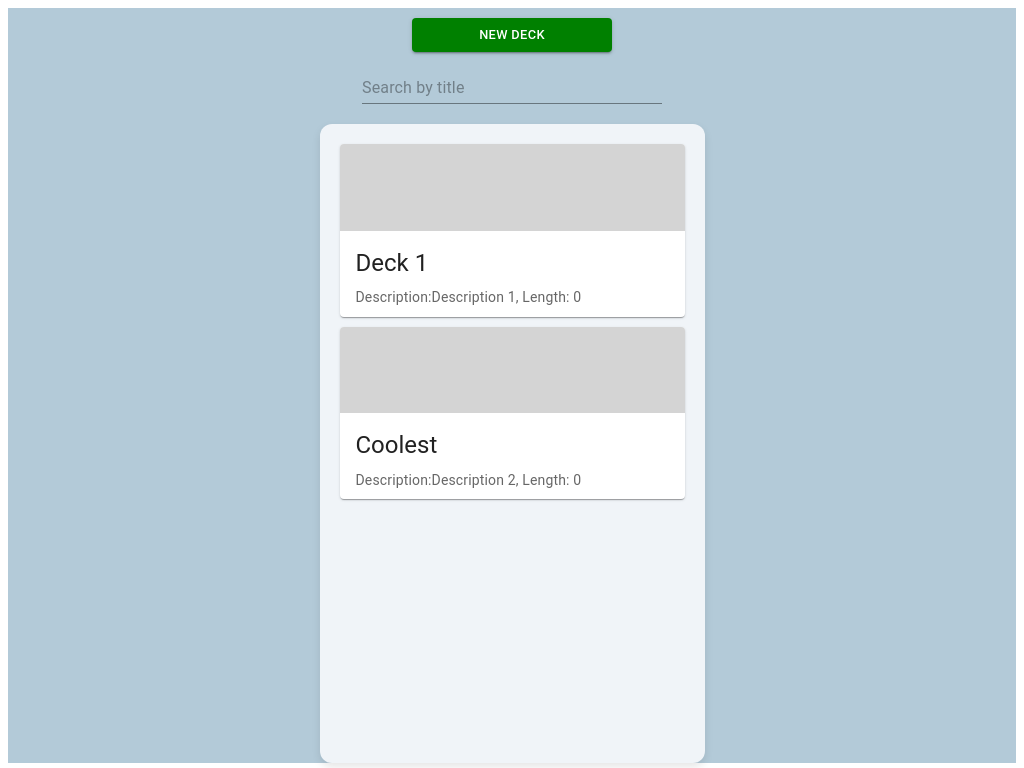
Test: DashboardPage Component › shows all decks when search query is cleared
// Type a search query and then clear the search query
Type "Deck 1" into the field with placeholder "Search by title" at (512, 88), box [362,72,662,104]
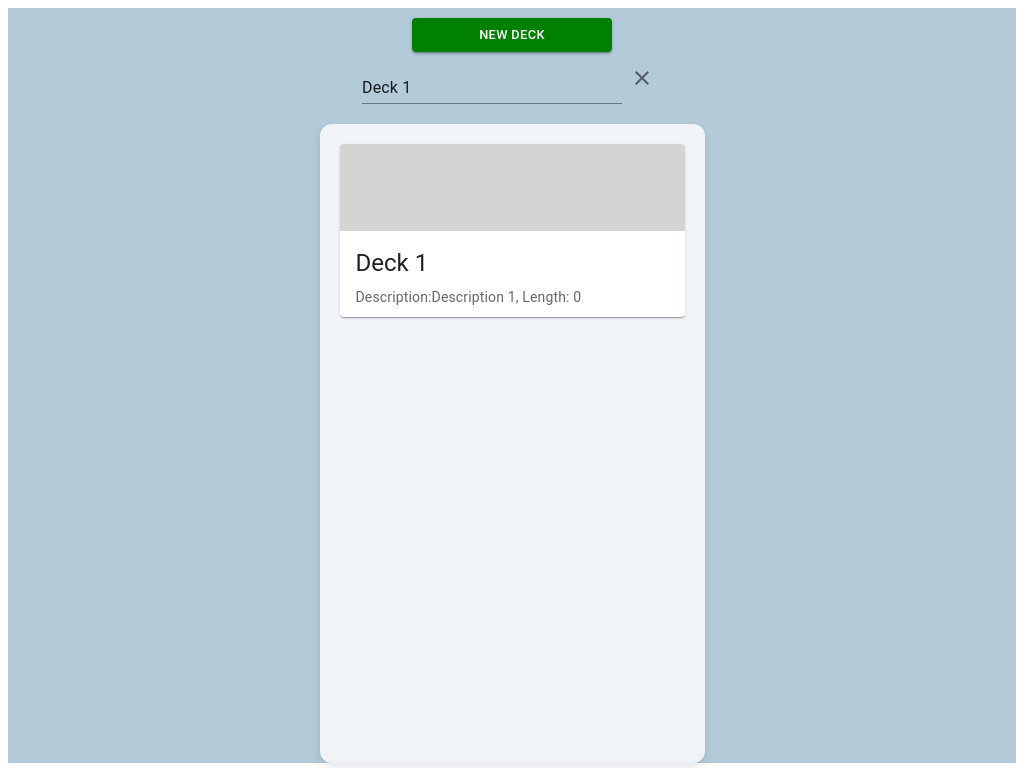
Clear the field with placeholder "Search by title" at (492, 88), box [362,72,622,104]
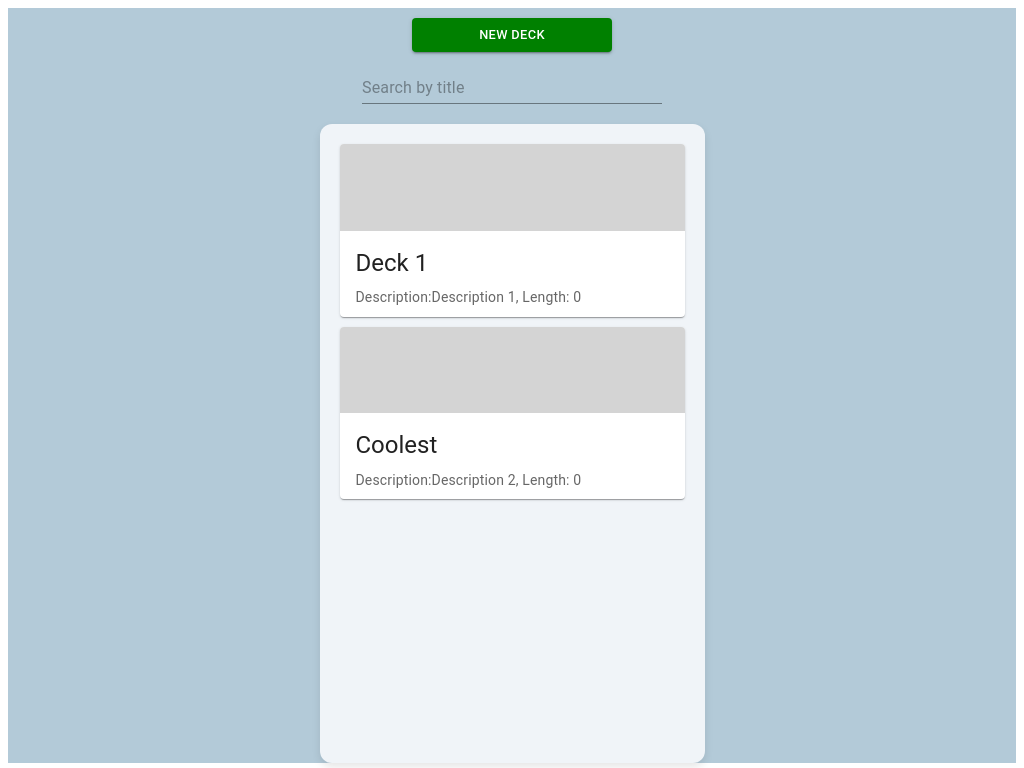
Expected: the text "Deck 1" is shown, [356,249,428,277]
Expected: the text "Coolest" is shown, [356,431,437,459]
